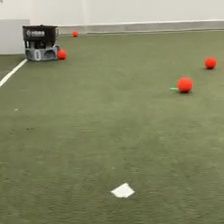ball: (175, 76, 193, 93), (203, 54, 217, 68), (57, 48, 67, 59), (71, 29, 78, 36)
robot: (21, 21, 60, 62)
